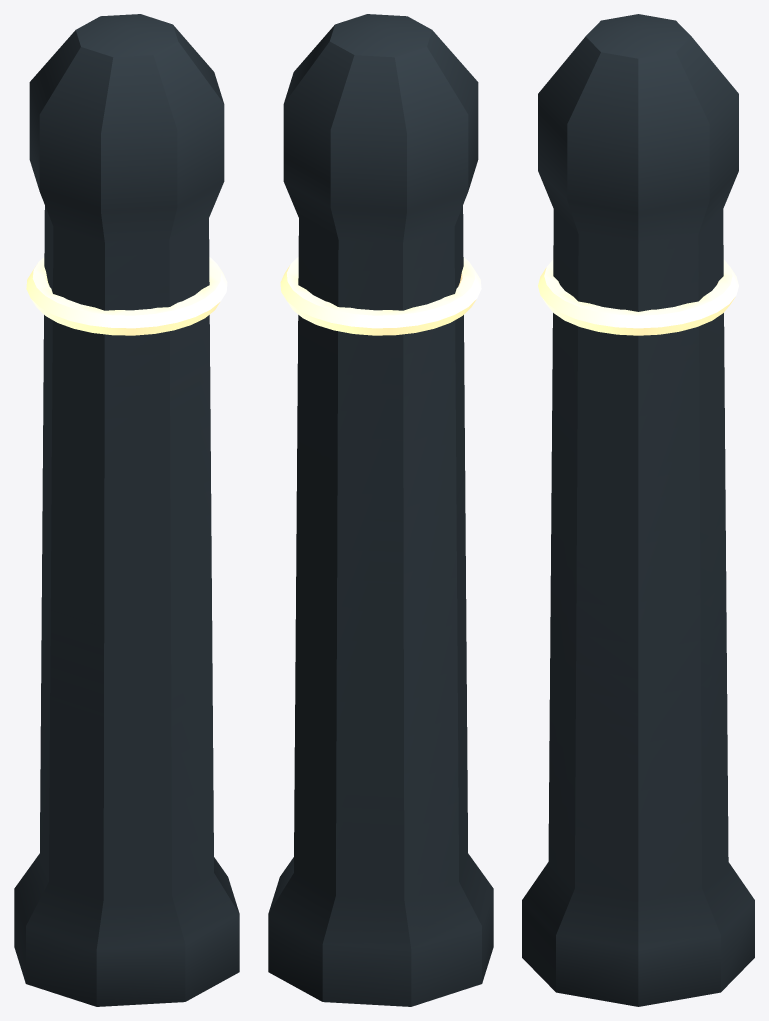
The model's file is bollard.lod1.glb.
The picture shows the model from 3 angles, left to right: view 1: azimuth 30°, elevation 25°; view 2: azimuth 150°, elevation 25°; view 3: azimuth 270°, elevation 25°; orthographic projection.
Parts seen in each view (by area): view 1: structure; view 2: structure; view 3: structure.
Part boxes in pixels (left/top/right/bottom): structure: left=14, top=14, right=239, bottom=1006; structure: left=268, top=14, right=493, bottom=1006; structure: left=522, top=14, right=754, bottom=1006.
Size of the model in its own units: 0.22 by 0.97 by 0.22.
